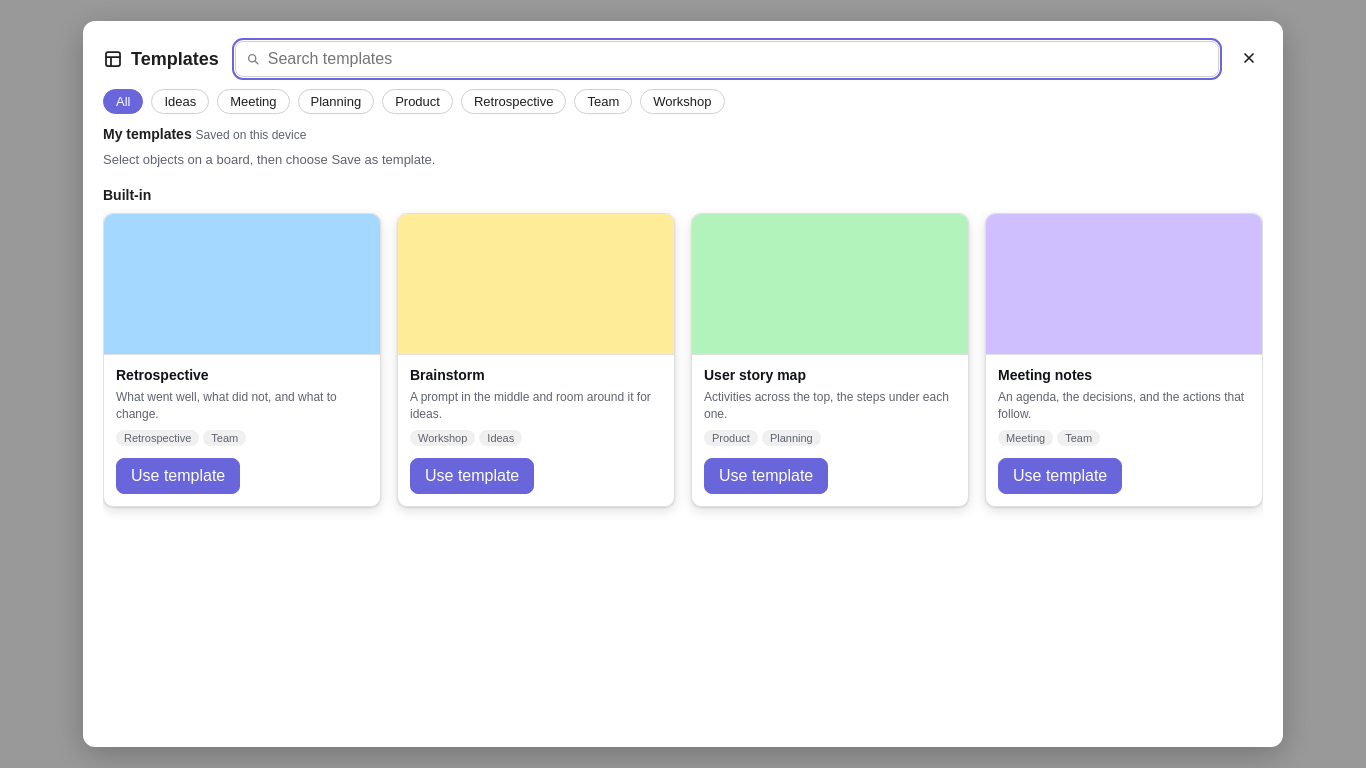
Test case: TemplateModal no-results state › clear-filters restores the built-in cards
Type "zzzzqq" into the search field labelled "Search templates" at (727, 59), box [235,41,1219,77]
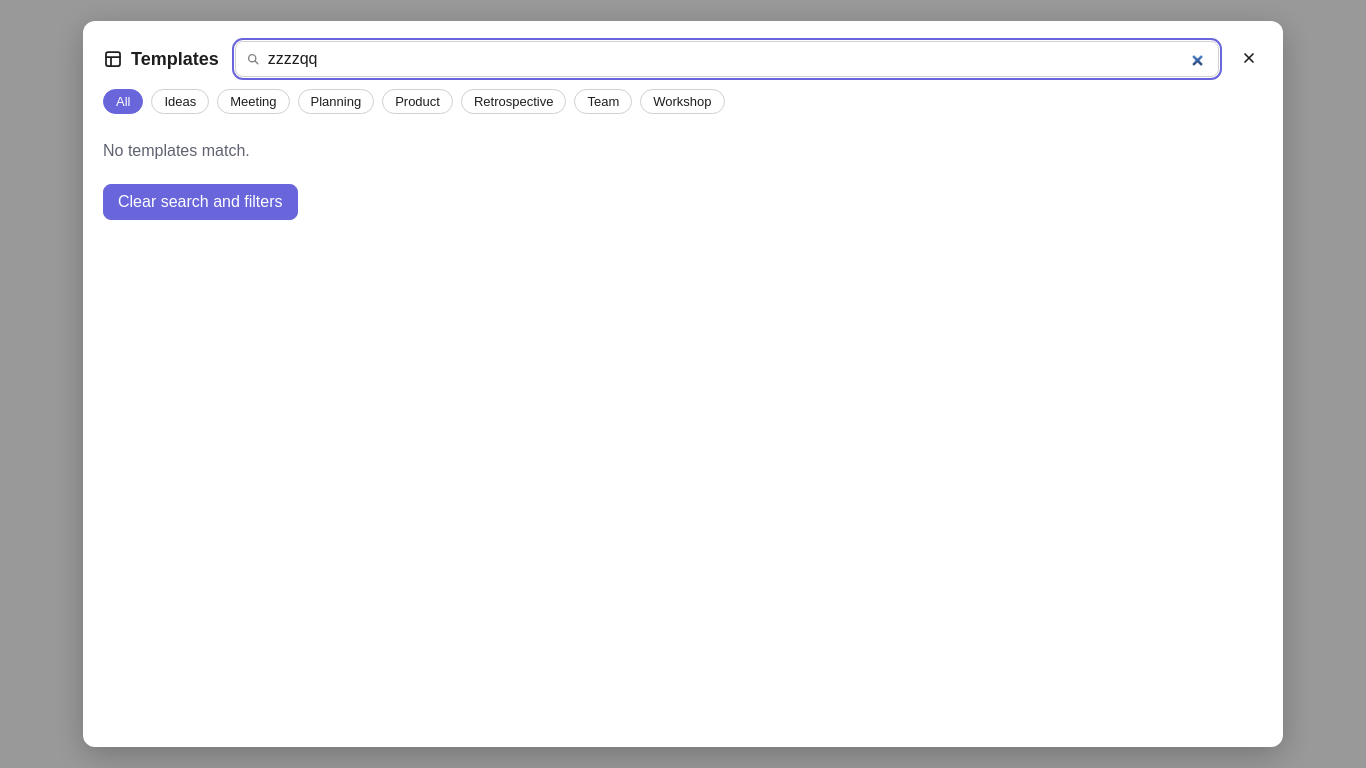
Result: the element with test id "template-no-results" is shown at [103,142,298,220]
Click the button with test id "template-clear-filters" at (200, 202), box [103,184,298,220]
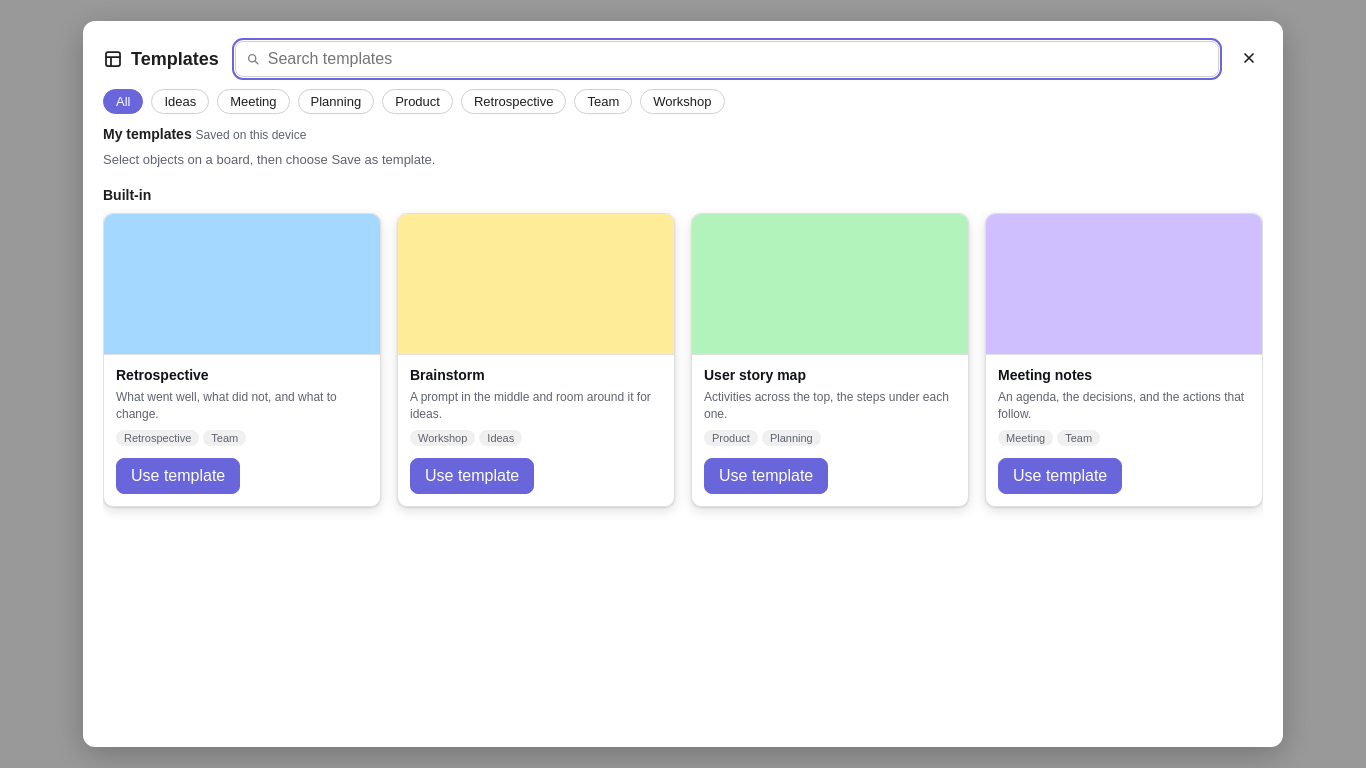
Result: the element with test id "template-no-results" is gone
